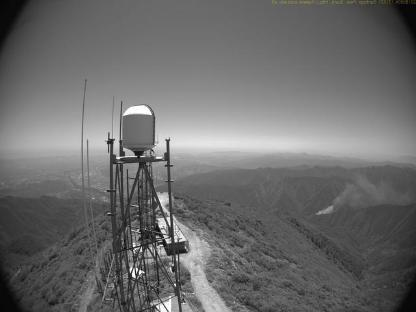smoke: (316, 174, 414, 216)
